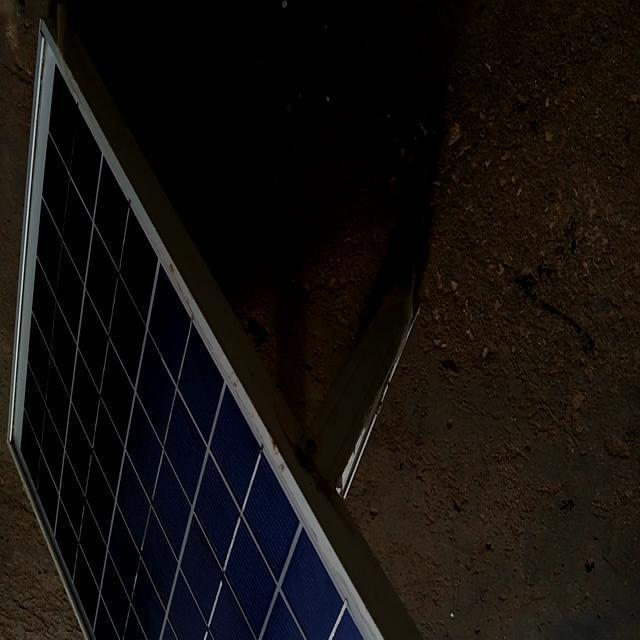Normal Solar Panel: (11, 35, 381, 637)
